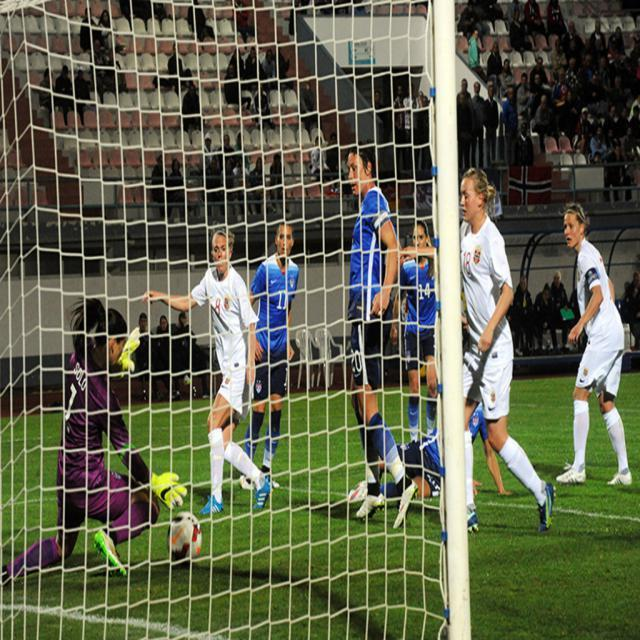football: (159, 510, 209, 565)
